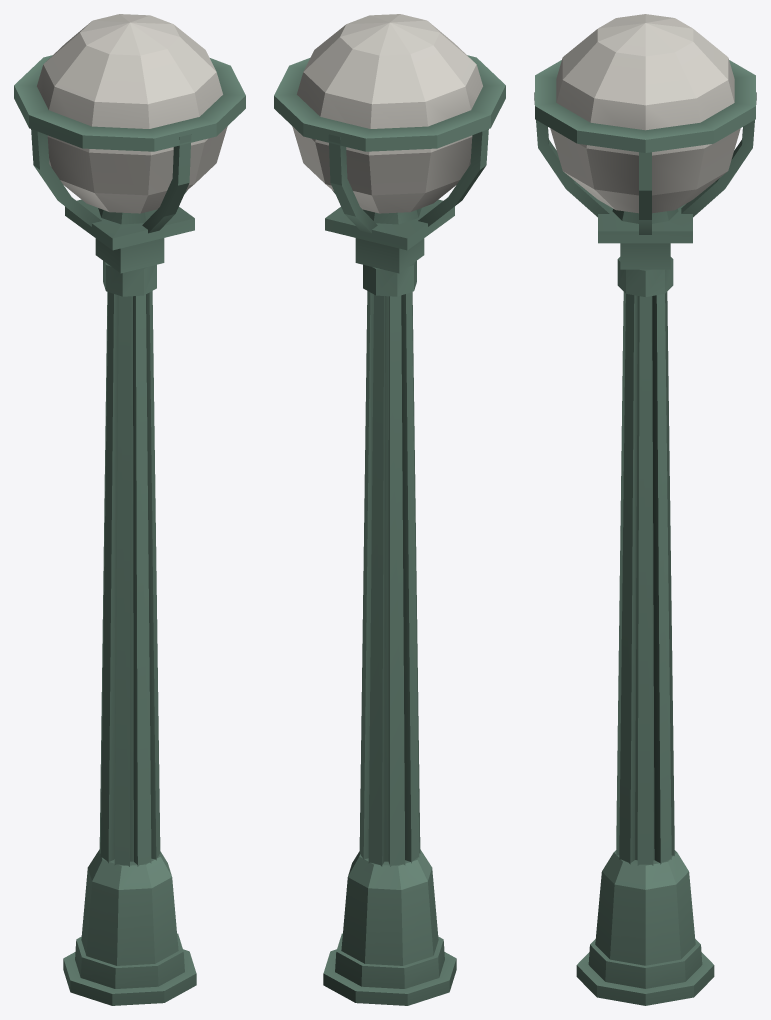
The model's file is globe.glb.
3 views of the same model, side by side, from view 1: azimuth 30°, elevation 25°; view 2: azimuth 150°, elevation 25°; view 3: azimuth 270°, elevation 25° (orthographic).
Parts seen in each view (by area): view 1: globe.001; view 2: globe.001; view 3: globe.001.
Boxes of the visible parts, left/top/right/bottom form: globe.001: left=14, top=14, right=245, bottom=1005; globe.001: left=274, top=14, right=505, bottom=1005; globe.001: left=534, top=14, right=756, bottom=1005.
Size of the model in its own units: 0.88 by 3.98 by 0.8409.
